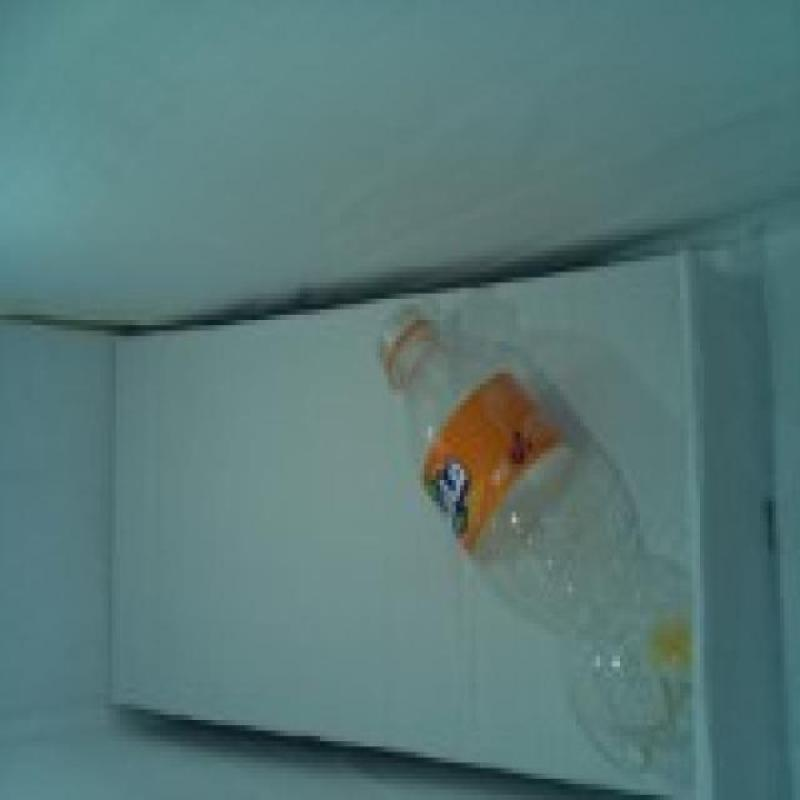botella: (379, 305, 695, 775)
